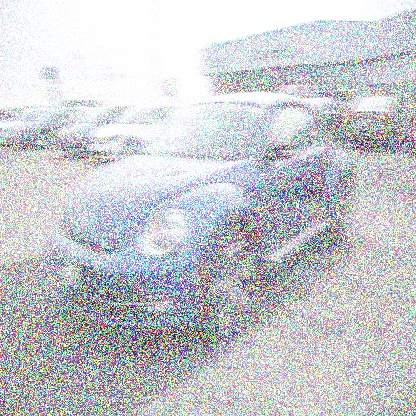Vehicle: (47, 90, 356, 342)
